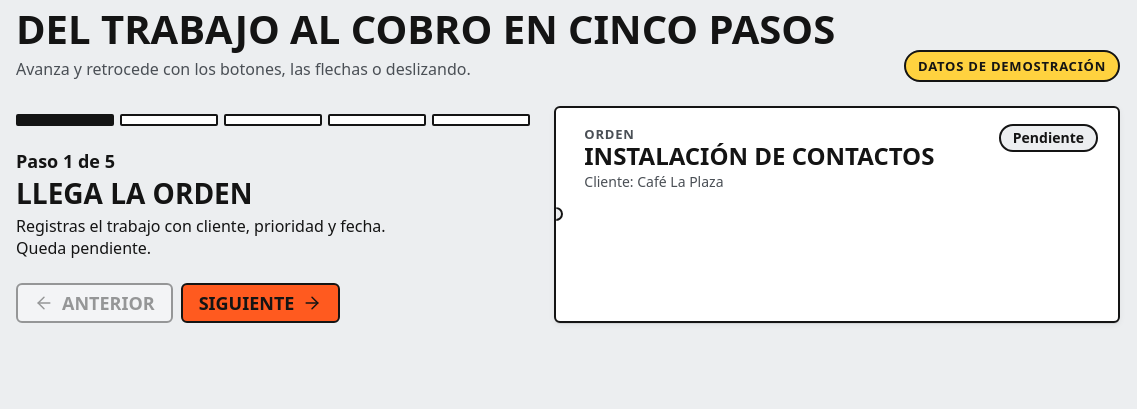
Test case: FlowDemo › en el paso 3 aparecen los conceptos y el total de $1,350.00
Click the button "Siguiente".
click(261, 303)  # box [181,283,340,323]
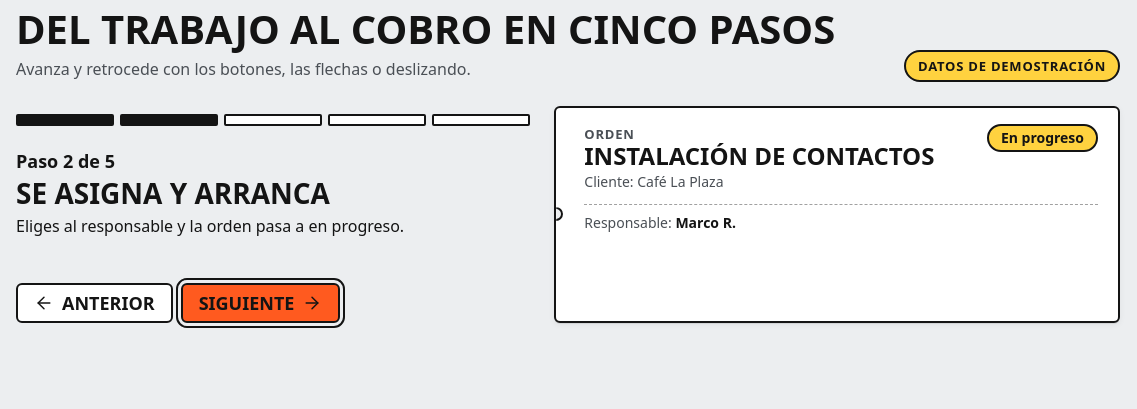
Click the button "Siguiente".
click(261, 303)  # box [181,283,340,323]
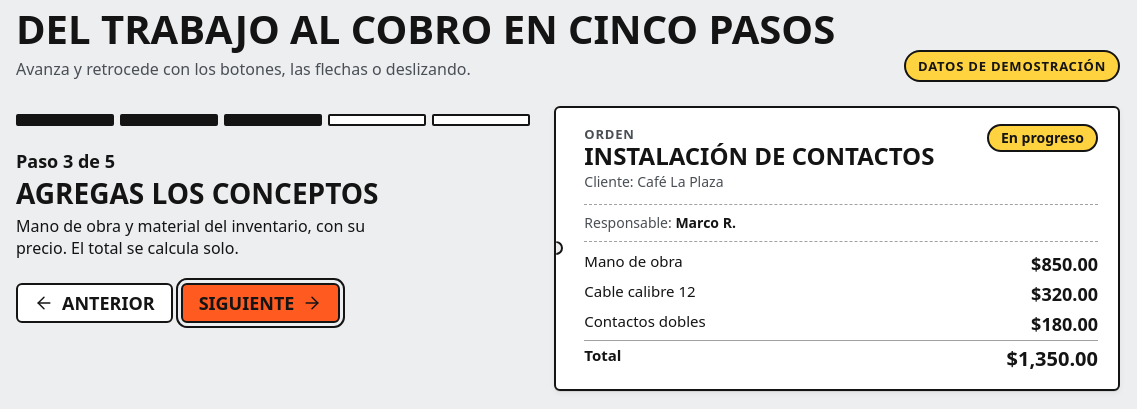
Expected: the text "Mano de obra" is shown, [584,250,683,278]
Expected: the text "Total" is shown, [584,345,621,373]
Expected: the text "$1,350.00" is shown, [1006,345,1098,373]
